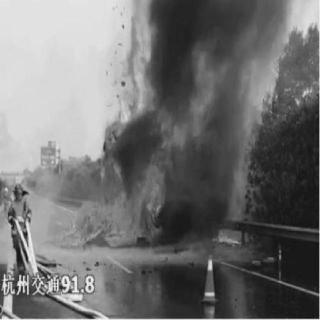Fire: (66, 4, 204, 244), (216, 228, 238, 244)
Smoke: (153, 3, 274, 91), (176, 154, 226, 230), (205, 92, 247, 148)
other: (1, 269, 93, 297), (110, 256, 163, 302), (200, 252, 219, 302), (264, 245, 284, 267)
